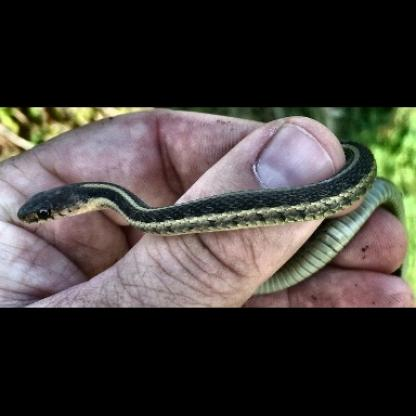Snake: (14, 135, 416, 290)
